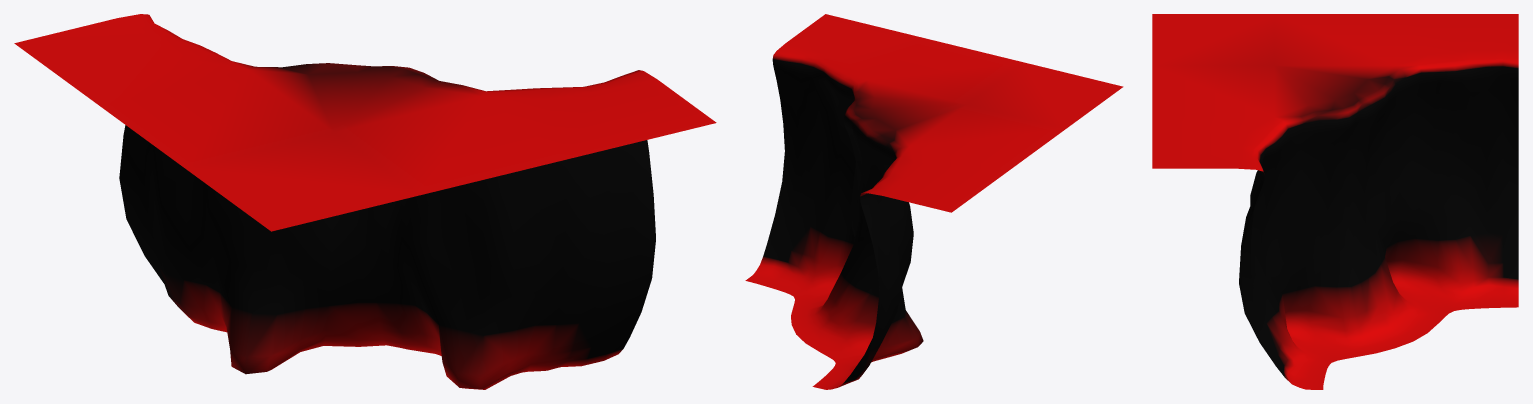
The model's file is GroundCliff04C 2M Background.fbx.
3 renders of one model, left to right at view 1: azimuth 30°, elevation 25°; view 2: azimuth 150°, elevation 25°; view 3: azimuth 270°, elevation 25°, orthographic. The views are drawn at different scales.
Parts seen in each view (by area): view 1: GroundCliff04C 2M Background; view 2: GroundCliff04C 2M Background; view 3: GroundCliff04C 2M Background.
Boxes of the visible parts, box(x1,y1,x2,y2) form: GroundCliff04C 2M Background: box(14, 14, 716, 389); GroundCliff04C 2M Background: box(745, 14, 1123, 389); GroundCliff04C 2M Background: box(1152, 14, 1518, 389).
Size of the model in its own units: 3 by 2 by 3.
